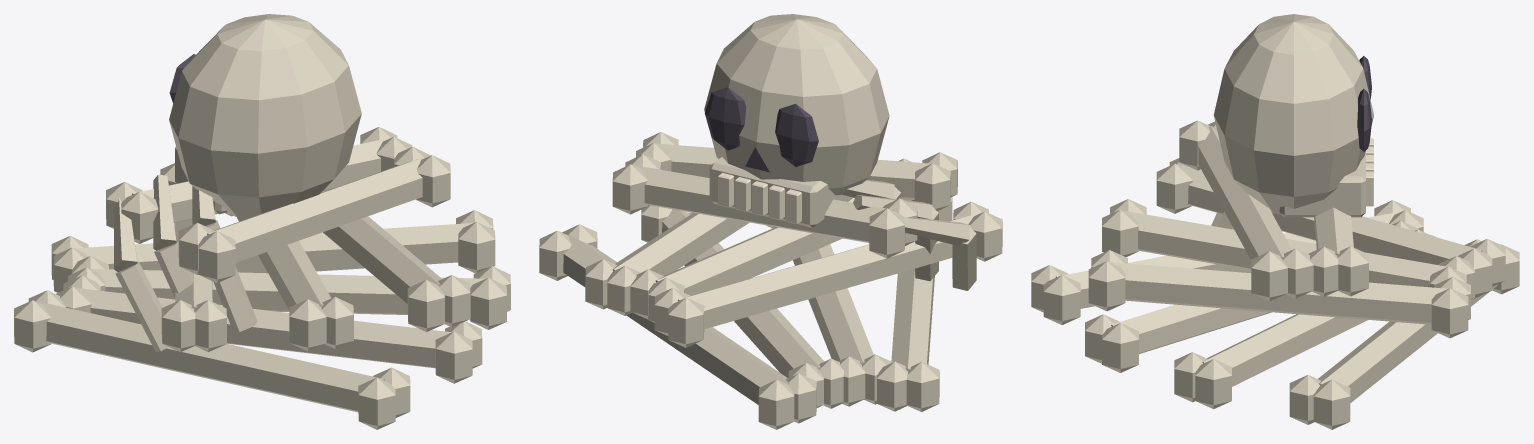
The model's file is bone_pile.glb.
The picture shows the model from 3 angles, left to right: view 1: azimuth 30°, elevation 25°; view 2: azimuth 150°, elevation 25°; view 3: azimuth 270°, elevation 25°; orthographic projection. The views are drawn at different scales.
Bounding box in the file's own units: 0.8907 × 0.622 × 0.8788.
